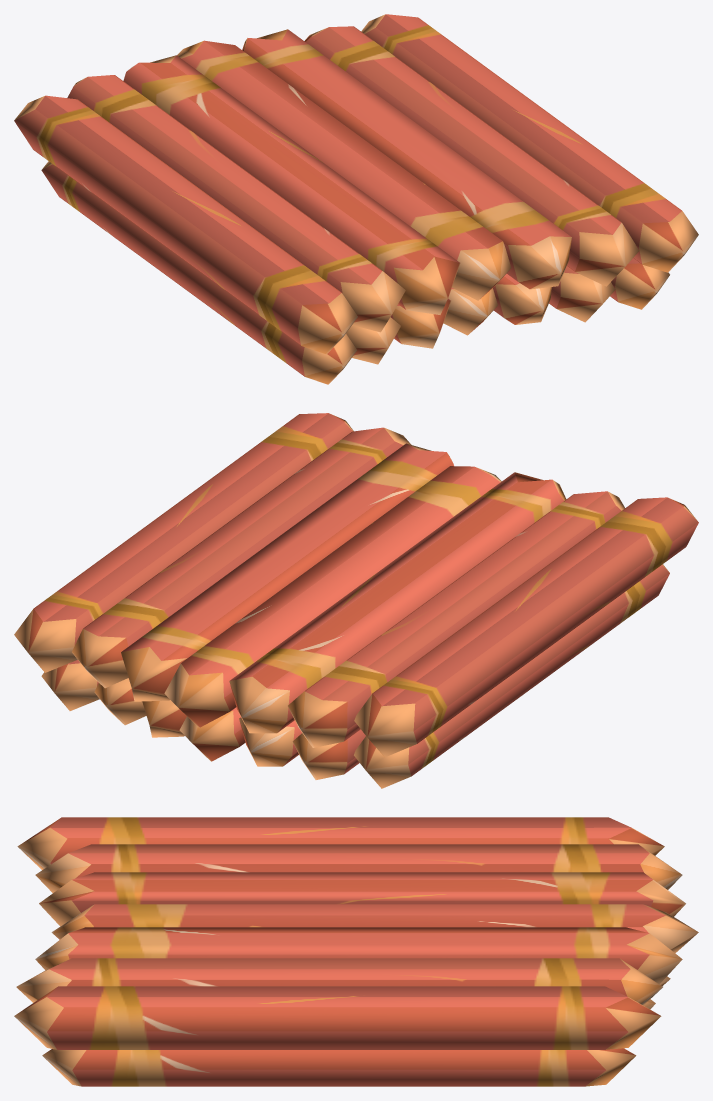
The model's file is raft_0.fbx.
3 views of the same model, one above another, from view 1: azimuth 30°, elevation 25°; view 2: azimuth 150°, elevation 25°; view 3: azimuth 270°, elevation 25° (orthographic). The views are drawn at different scales.
Visible parts, largest first — view 1: mesh_raft3; view 2: mesh_raft3; view 3: mesh_raft3.
Part boxes in pixels (x1,y1,x2,y2): mesh_raft3: (14,14,698,384); mesh_raft3: (14,413,698,788); mesh_raft3: (14,817,698,1086).
Size of the model in its own units: 0.3882 by 0.0865 by 0.5629.
